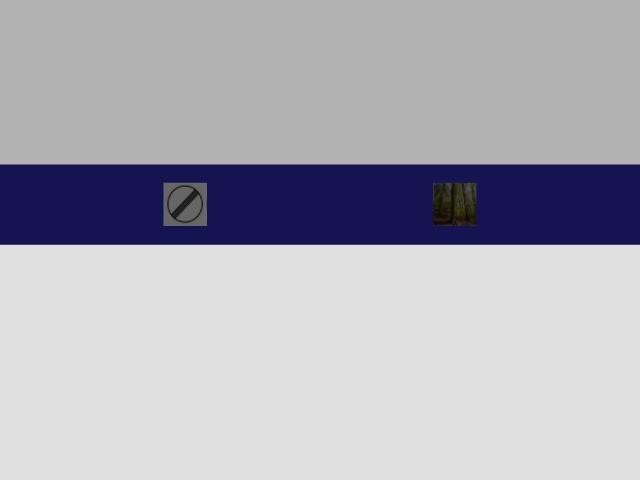fastsign: (163, 183, 206, 225)
tree: (449, 183, 456, 225), (461, 183, 469, 219), (438, 183, 445, 214), (469, 184, 476, 201)
vehicle: (171, 189, 199, 220)
